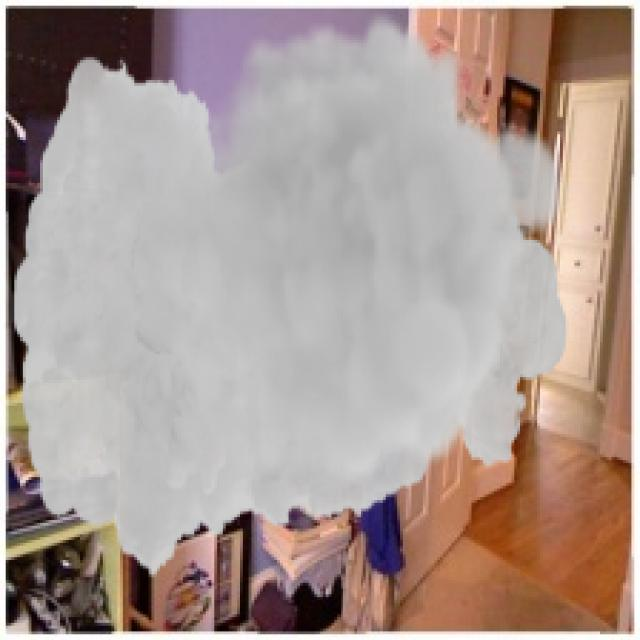smoke: (11, 11, 568, 580)
